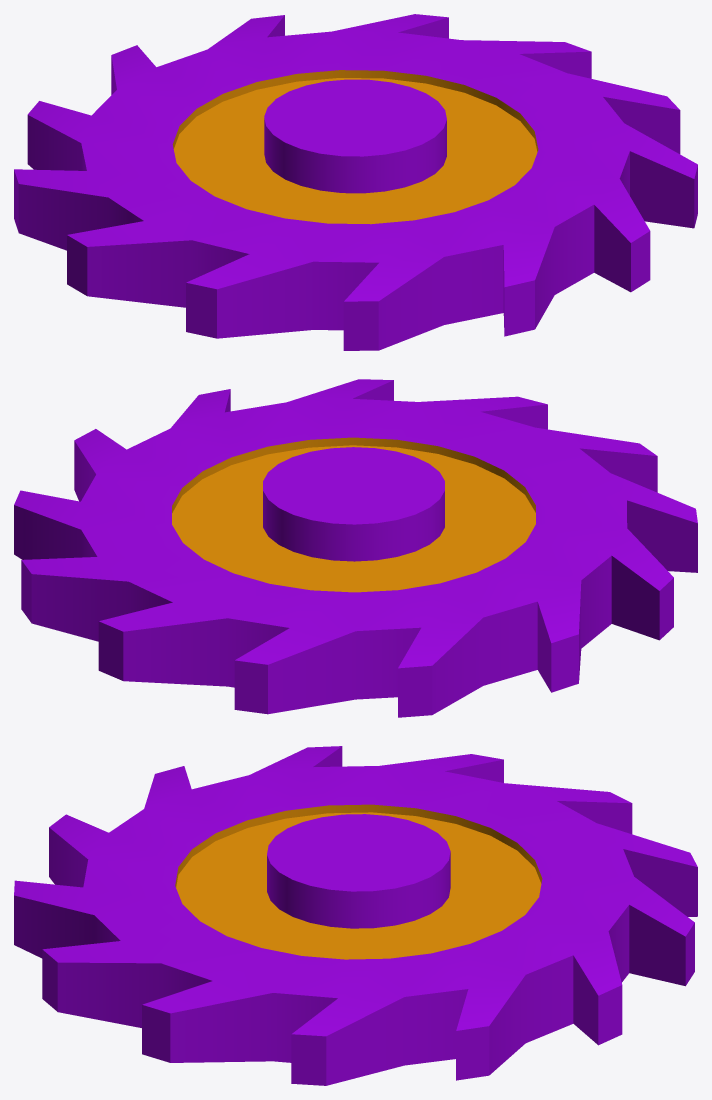
The model's file is obstical1.fbx.
The picture shows the model from 3 angles, top to bottom: view 1: azimuth 30°, elevation 25°; view 2: azimuth 150°, elevation 25°; view 3: azimuth 270°, elevation 25°; orthographic projection.
Visible parts, largest first — view 1: pCylinder39; view 2: pCylinder39; view 3: pCylinder39.
Boxes of the visible parts, bbox=[...] form: pCylinder39: bbox=[14, 14, 697, 350]; pCylinder39: bbox=[14, 379, 697, 717]; pCylinder39: bbox=[14, 746, 697, 1085].
Bounding box in the file's own units: 4.33 × 0.8828 × 4.31.
